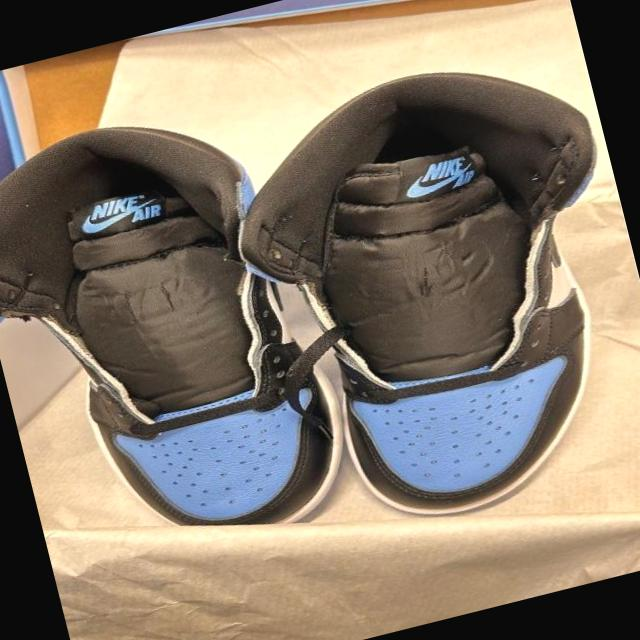nike_original_jordan: (204, 37, 640, 552), (0, 87, 365, 578)
